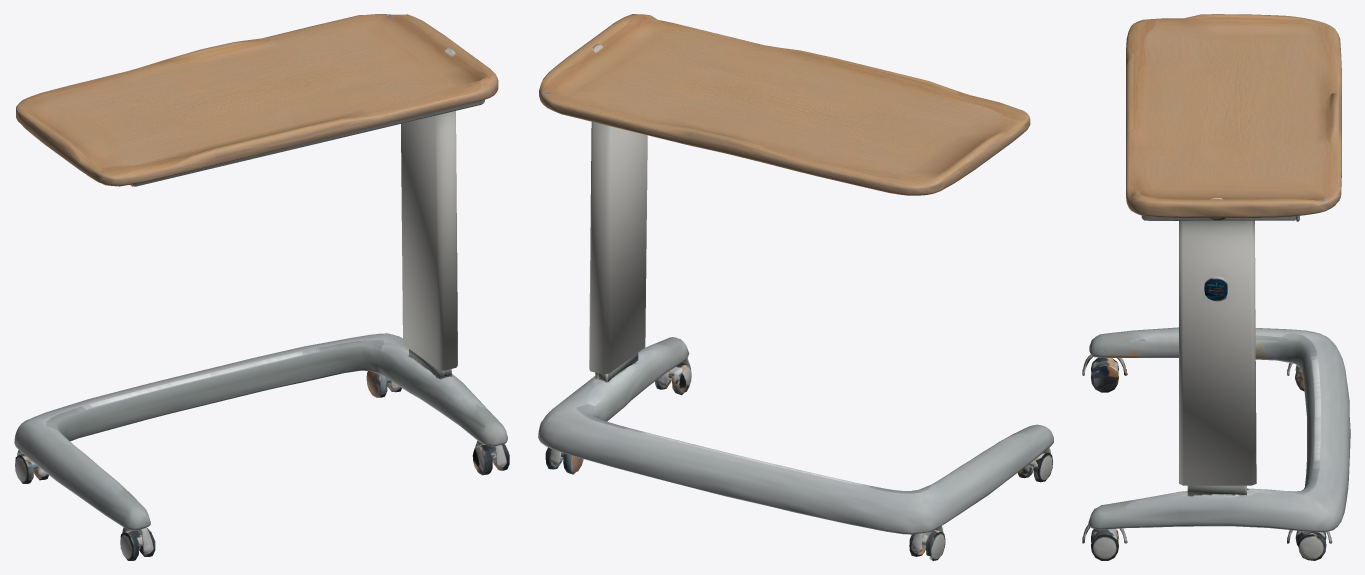
Rendered from overheadtable.fbx.
3 renders of one model, left to right at view 1: azimuth 30°, elevation 25°; view 2: azimuth 150°, elevation 25°; view 3: azimuth 270°, elevation 25°, orthographic. The views are drawn at different scales.
Visible parts, largest first — view 1: tripo_node_f2907047; view 2: tripo_node_f2907047; view 3: tripo_node_f2907047.
Boxes of the visible parts, x1,y1,x2,y2 form: tripo_node_f2907047: [14, 14, 509, 560]; tripo_node_f2907047: [538, 14, 1053, 560]; tripo_node_f2907047: [1082, 14, 1350, 560].
Size of the model in its own units: 94.58 by 84.74 by 56.13.
Materials: 1 (1 with a texture image).
